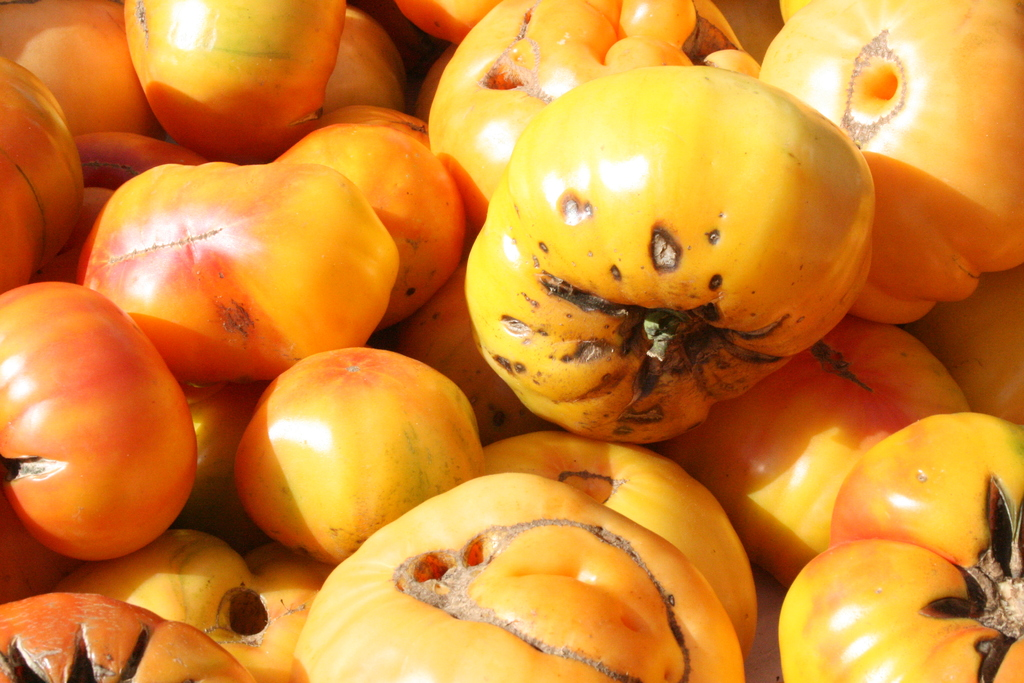Tomato: (0, 0, 1023, 682)
